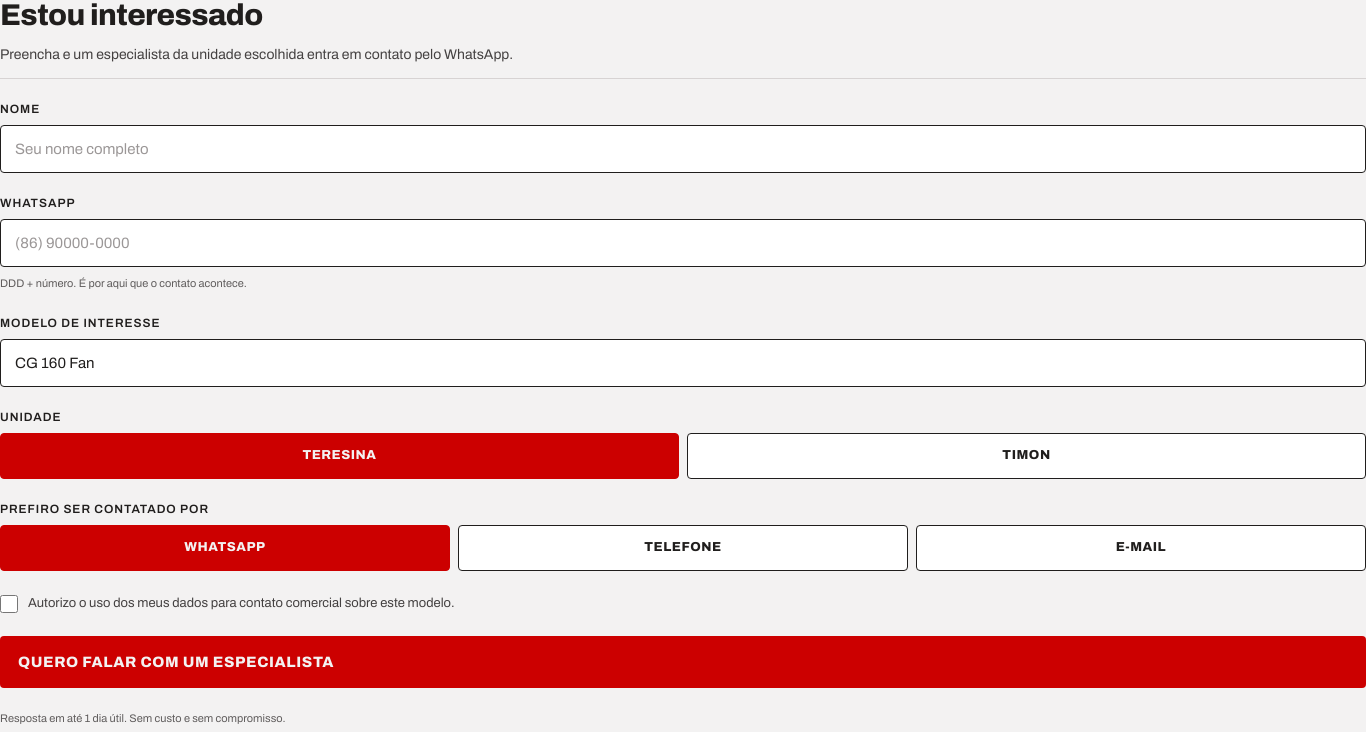
Test: envio › avisa sem culpar o usuário quando a rede falha
Type "Ricardo Menezes" into the field labelled "Nome" at (683, 149), box [0,125,1365,173]
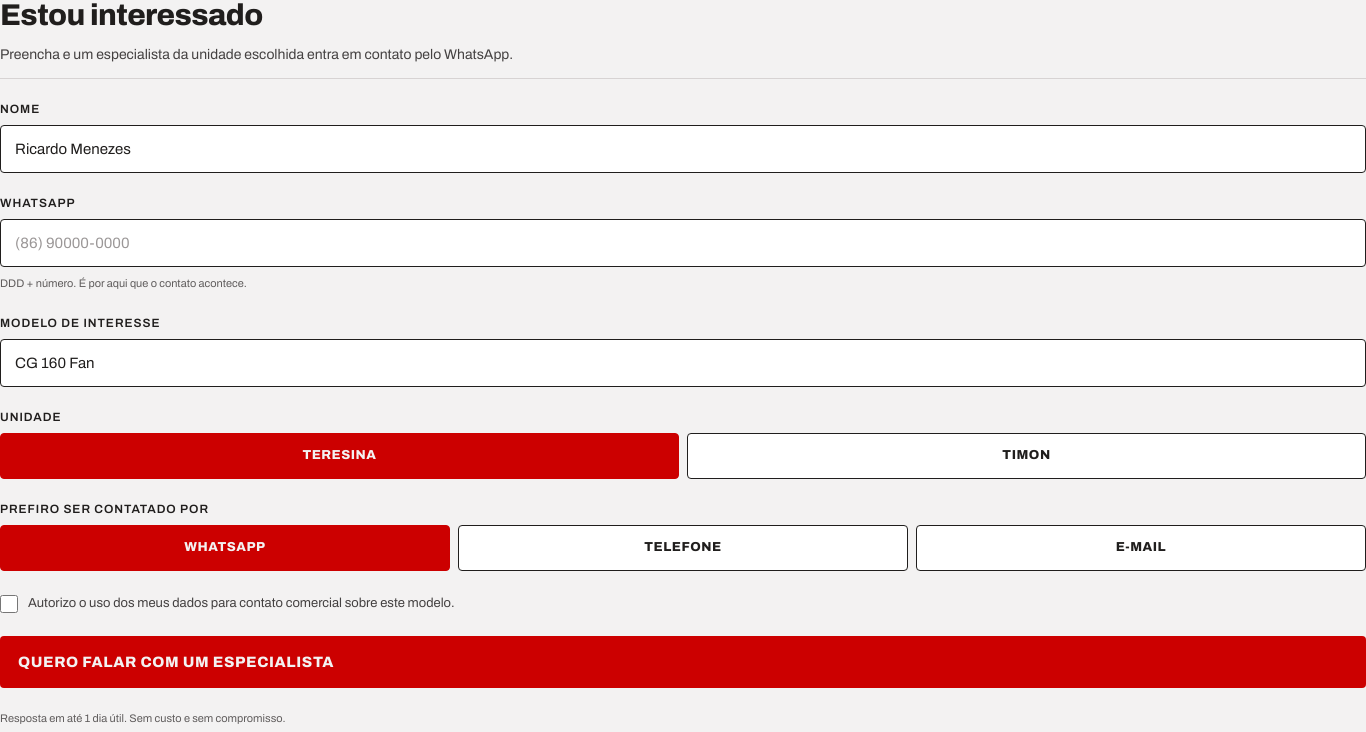
Type "86998124471" into the field labelled "WhatsApp" at (683, 243), box [0,219,1365,267]
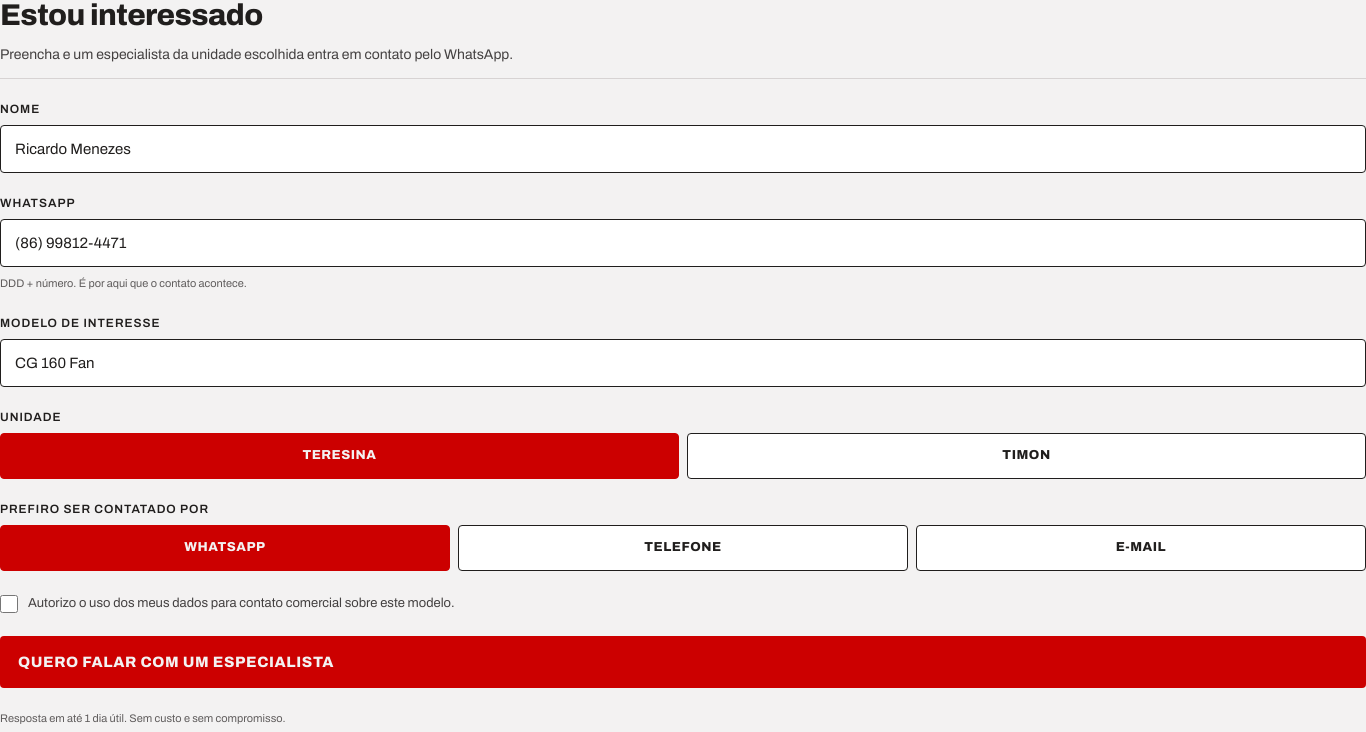
Click the checkbox at (9, 604), box [0,595,18,613]
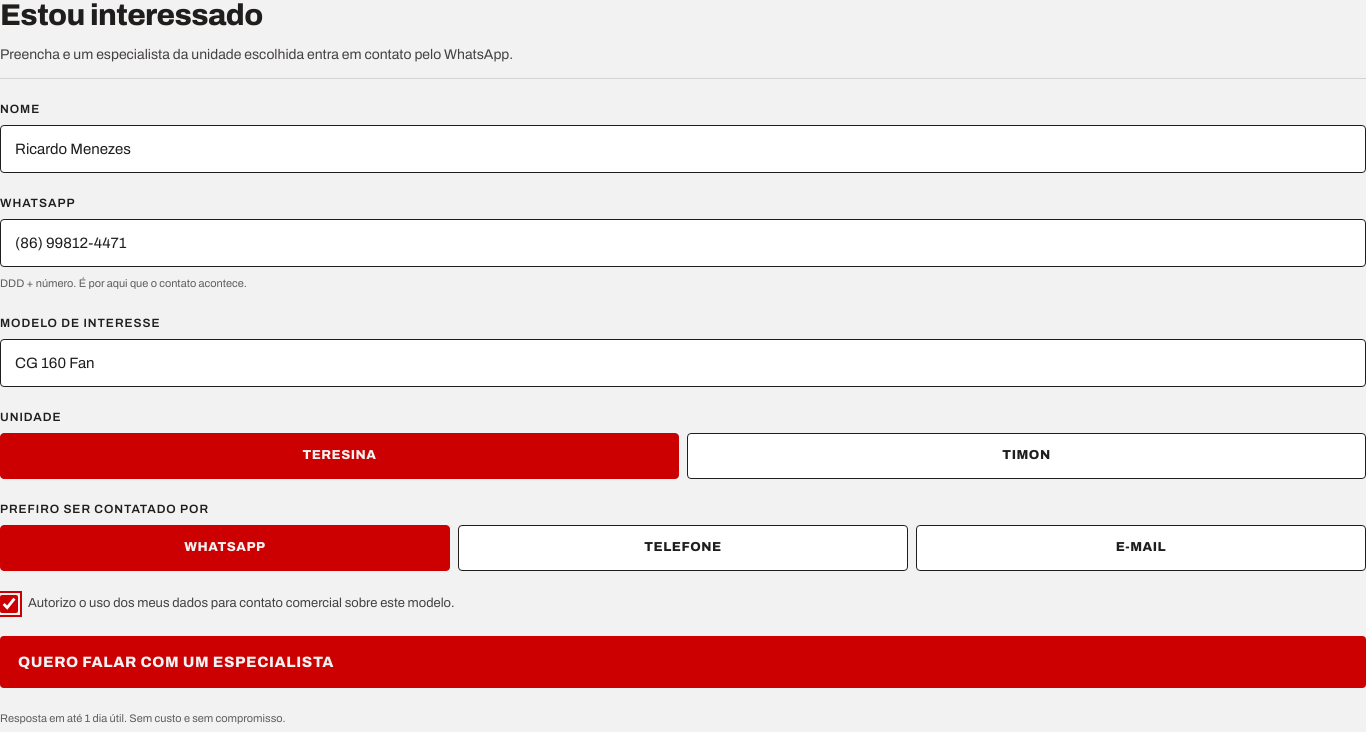
Click the button "Quero falar com um especialista" at (176, 662), box [0,636,1365,688]
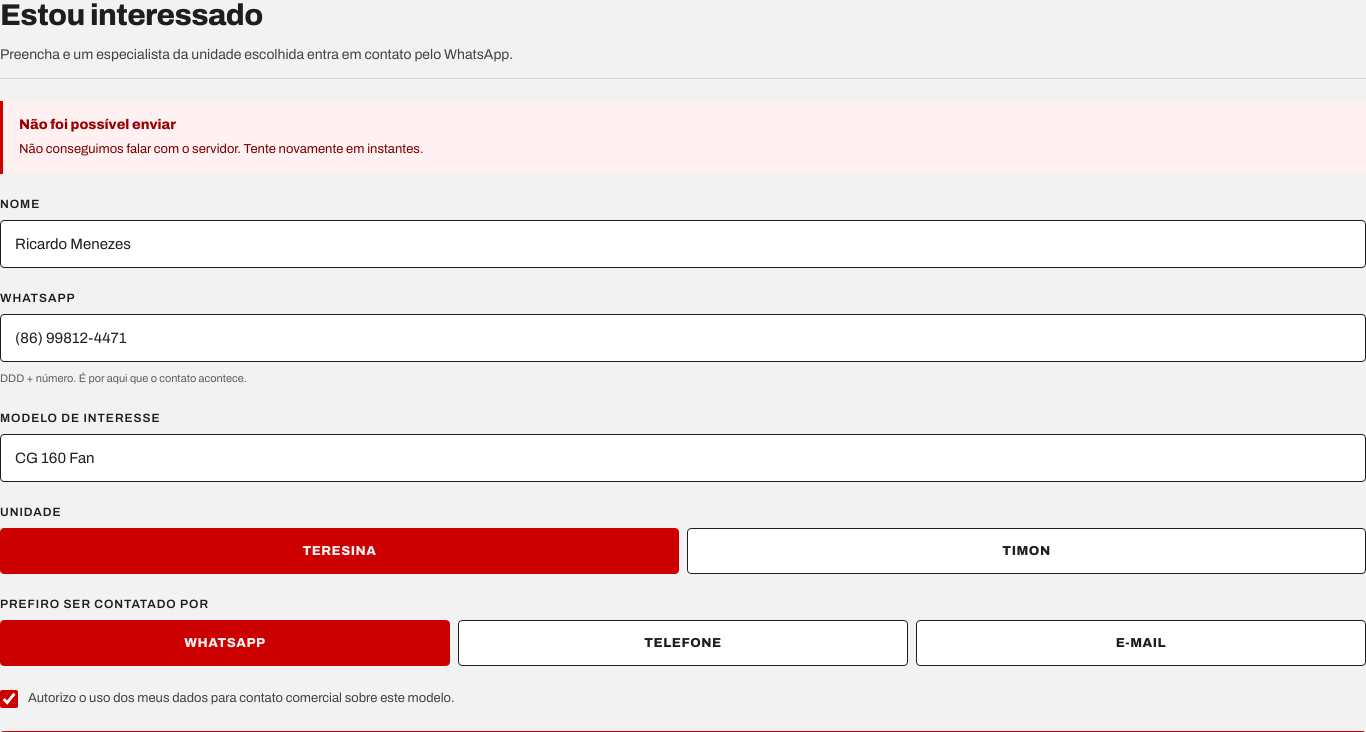
Check: the text "Não foi possível enviar" is shown, box [19,117,176,132]
Check: the text "Tente novamente em instantes" is shown, box [19,142,424,156]
